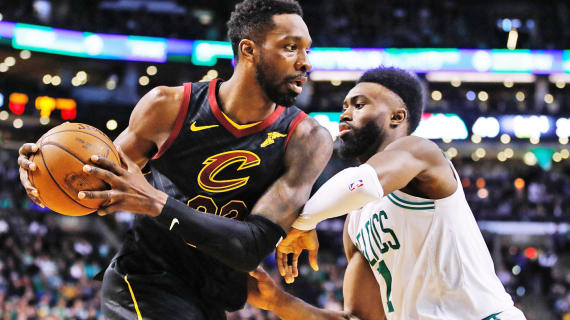ball: (20, 112, 126, 225)
breakthrough: (25, 0, 334, 318)
defense: (312, 63, 529, 320)
